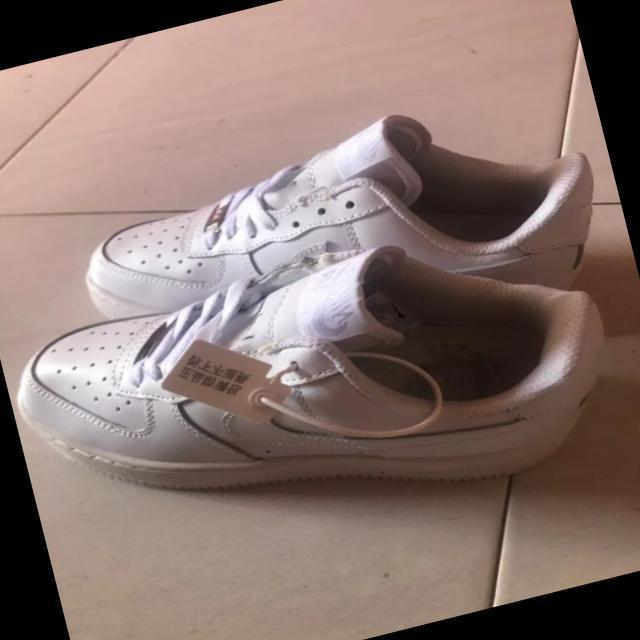nike fake air force: (0, 196, 640, 590), (23, 69, 619, 411)
